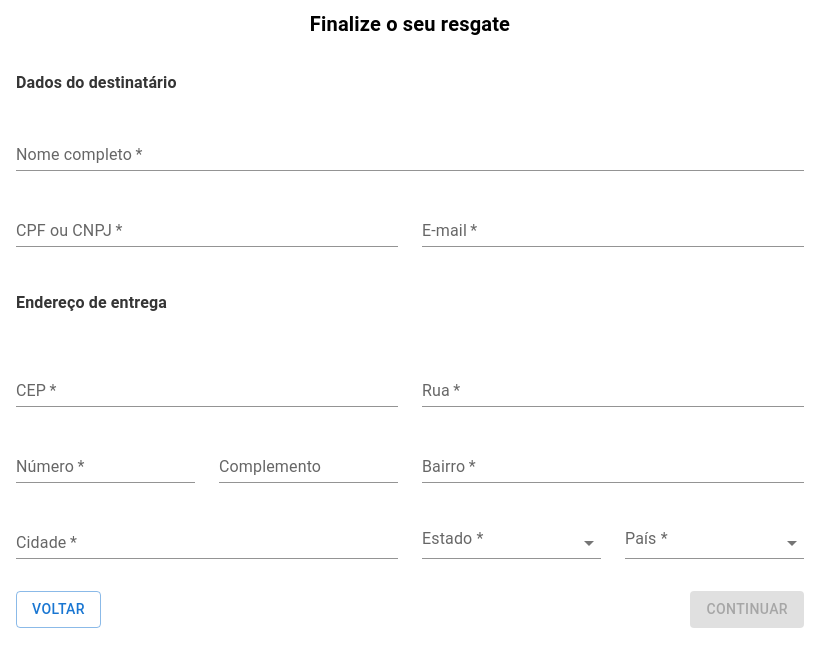
Test: FormTemplate Component › Preenche e formata corretamente o CEP
In the field labelled "CEP *": (207, 391) x1=16 y1=375 x2=398 y2=407, type "96.075-160"
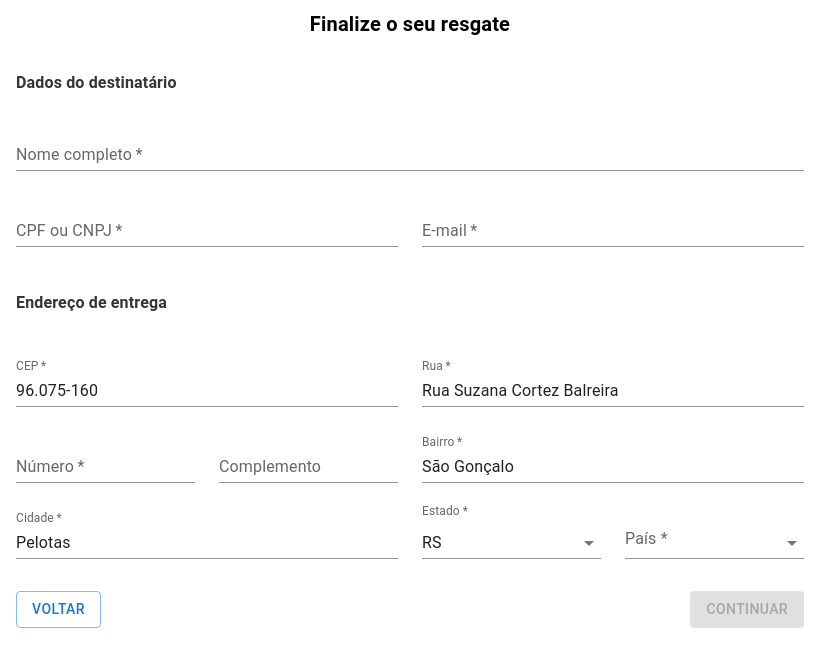
Check: the field showing "Rua Suzana Cortez Balreira" is shown, box x1=422 y1=375 x2=804 y2=407
